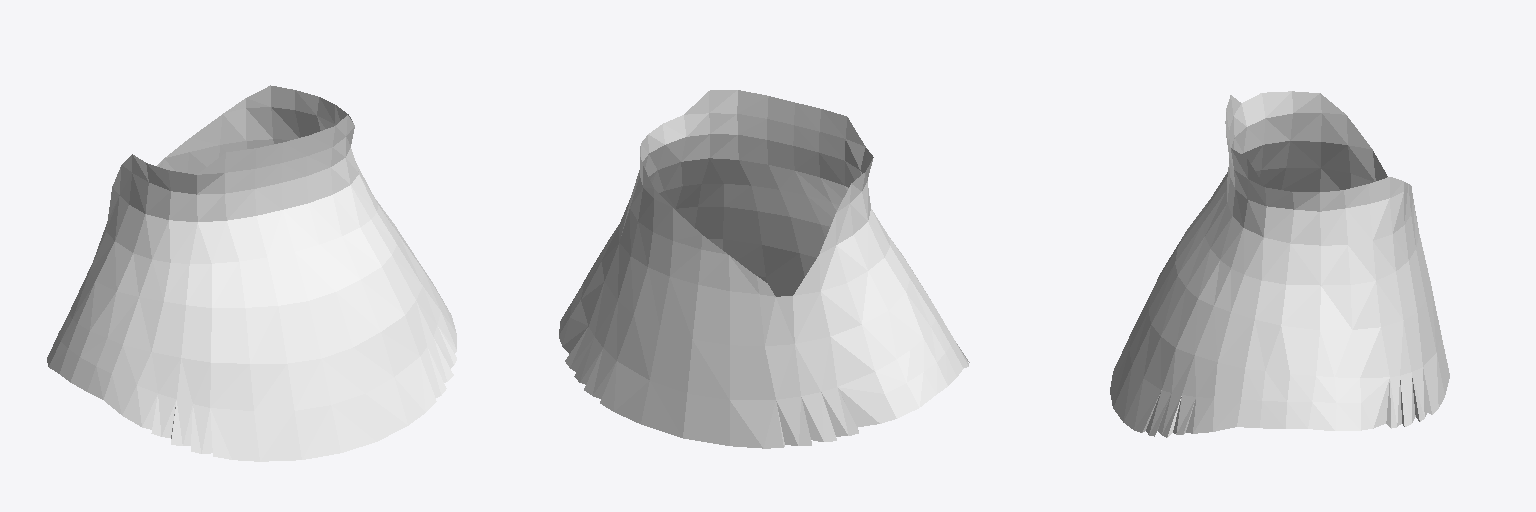
Rendered from sit_test.022.obj.
3 views of the same model, side by side, from view 1: azimuth 30°, elevation 25°; view 2: azimuth 150°, elevation 25°; view 3: azimuth 270°, elevation 25° (orthographic).
Parts seen in each view (by area): view 1: sit_test.022_sit_test.055; view 2: sit_test.022_sit_test.055; view 3: sit_test.022_sit_test.055.
Part boxes in pixels (bbox=[...]): sit_test.022_sit_test.055: bbox=[47, 85, 456, 461]; sit_test.022_sit_test.055: bbox=[559, 90, 969, 448]; sit_test.022_sit_test.055: bbox=[1110, 91, 1449, 437].
Size of the model in its own units: 0.6267 by 0.442 by 0.505.